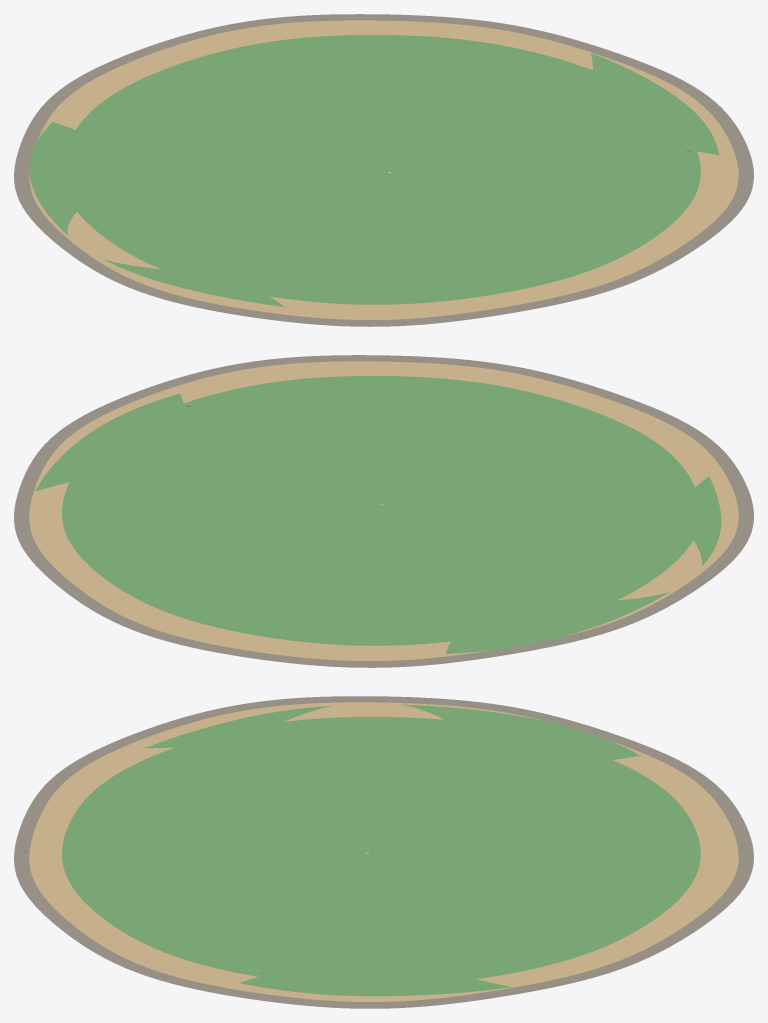
The model's file is island-visual.glb.
3 renders of one model, top to bottom at view 1: azimuth 30°, elevation 25°; view 2: azimuth 150°, elevation 25°; view 3: azimuth 270°, elevation 25°, orthographic.
Visible parts, largest first — view 1: VIS_IslandTerrain, VIS_BeachRing, VIS_CliffRing; view 2: VIS_IslandTerrain, VIS_BeachRing, VIS_CliffRing; view 3: VIS_IslandTerrain, VIS_BeachRing, VIS_CliffRing.
Part boxes in pixels (x1=…): VIS_IslandTerrain: x1=29, y1=33, x2=719, y2=306; VIS_BeachRing: x1=29, y1=20, x2=738, y2=319; VIS_CliffRing: x1=14, y1=14, x2=753, y2=326; VIS_IslandTerrain: x1=28, y1=376, x2=721, y2=653; VIS_BeachRing: x1=29, y1=361, x2=738, y2=660; VIS_CliffRing: x1=14, y1=355, x2=753, y2=667; VIS_IslandTerrain: x1=62, y1=704, x2=700, y2=996; VIS_BeachRing: x1=29, y1=702, x2=738, y2=1001; VIS_CliffRing: x1=14, y1=696, x2=753, y2=1008.
Bounding box in the file's own units: 338 × 0.28 × 338.
